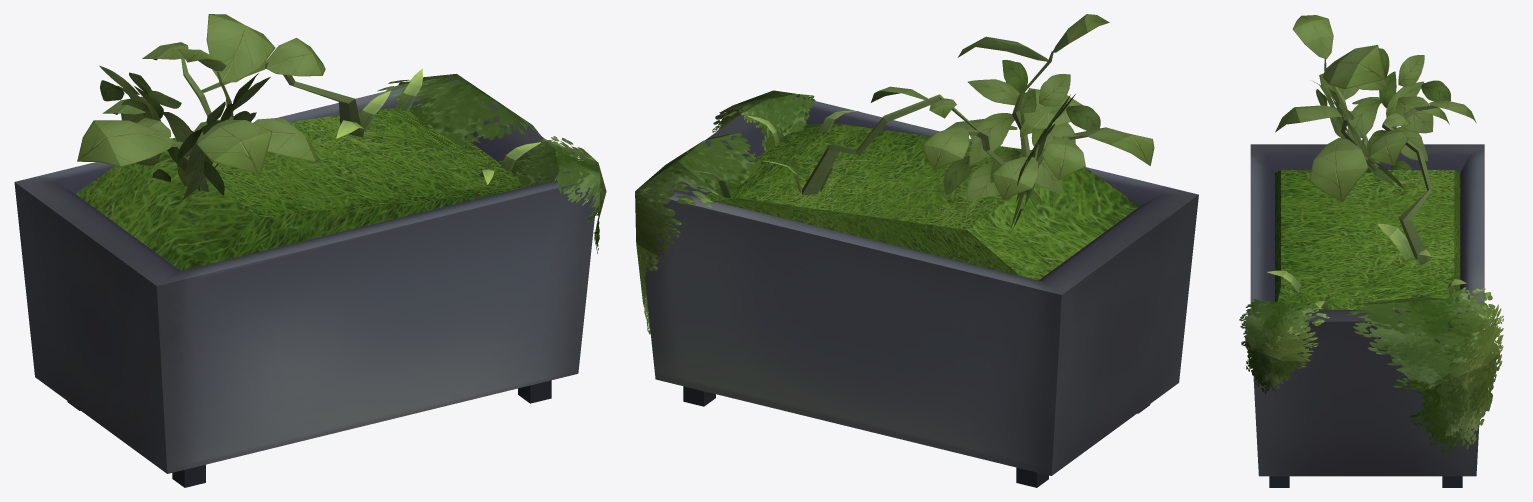
The model's file is Pot01.fbx.
The picture shows the model from 3 angles, left to right: view 1: azimuth 30°, elevation 25°; view 2: azimuth 150°, elevation 25°; view 3: azimuth 270°, elevation 25°; orthographic projection. The views are drawn at different scales.
Parts seen in each view (by area): view 1: pot01; view 2: pot01; view 3: pot01.
Boxes of the visible parts, x1,y1,x2,y2 form: pot01: (14,14,606,487); pot01: (635,14,1198,487); pot01: (1239,15,1503,487).
Bounding box in the file's own units: 2.79 × 2.24 × 1.76.
Materials: 1 (1 with a texture image).
